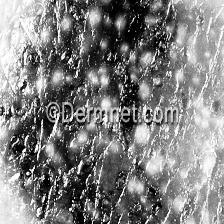Benign Marking or Mole: (0, 0, 161, 224)
